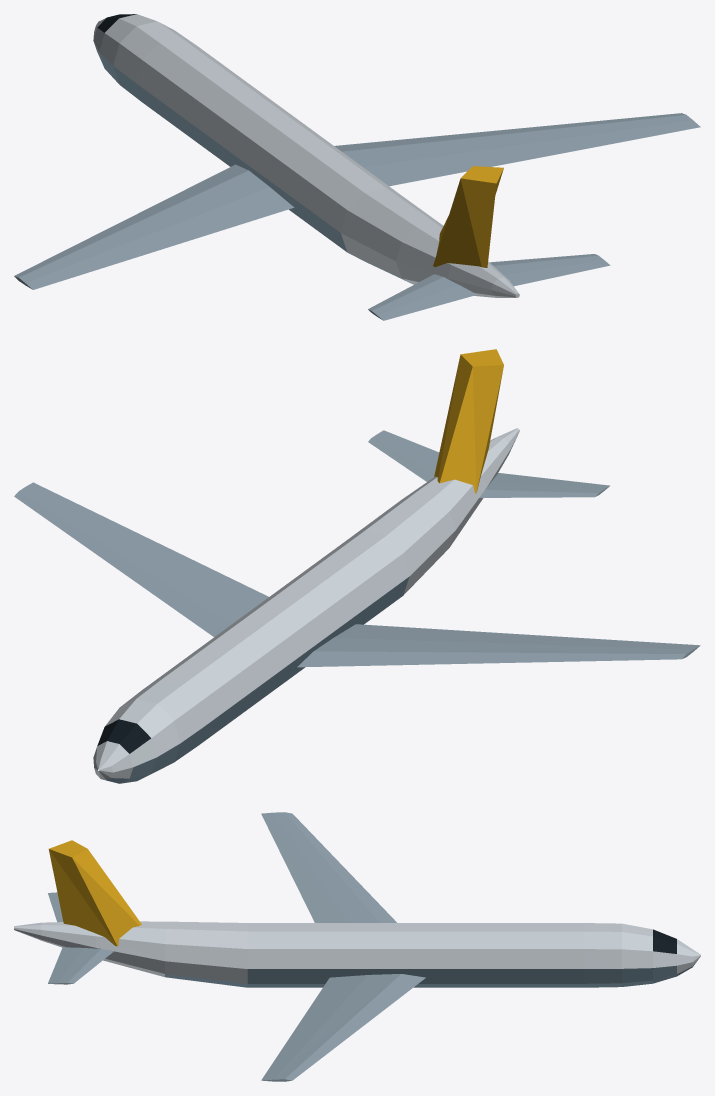
Rendered from plain-jet.glb.
3 views of the same model, one above another, from view 1: azimuth 30°, elevation 25°; view 2: azimuth 150°, elevation 25°; view 3: azimuth 270°, elevation 25° (orthographic). The views are drawn at different scales.
Parts seen in each view (by area): view 1: lod0; view 2: lod0; view 3: lod0.
Part boxes in pixels (x1,y1,x2,y2): lod0: (14,14,700,320); lod0: (14,349,700,783); lod0: (14,812,700,1081).
Size of what is drawn, in the model's own units: 0.92 by 0.2162 by 1.
